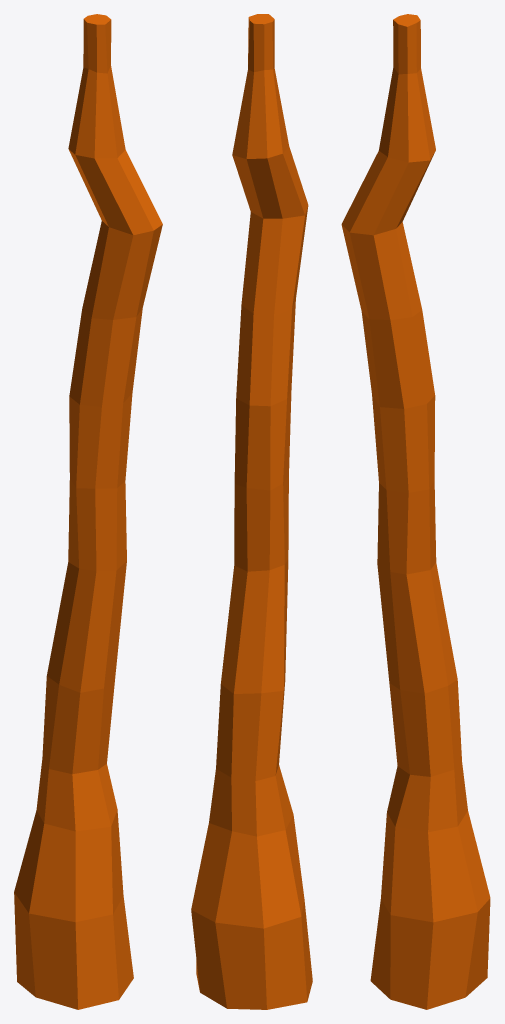
File: Plant.glb
The picture shows the model from 3 angles, left to right: view 1: azimuth 90°, elevation 25°; view 2: azimuth 150°, elevation 25°; view 3: azimuth 270°, elevation 25°; orthographic projection.
Parts seen in each view (by area): view 1: Plant.001; view 2: Plant.001; view 3: Plant.001.
Part boxes in pixels (x1,y1,x2,y2): Plant.001: (14, 14, 162, 1009); Plant.001: (191, 14, 312, 1009); Plant.001: (341, 14, 490, 1009).
Size of the model in its own units: 1.58 by 13.1 by 1.83.
Materials: 1 (1 with a texture image).
